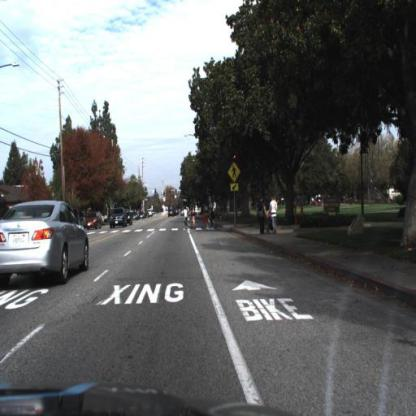car: (2, 199, 93, 292), (108, 204, 129, 230), (82, 210, 104, 233), (82, 211, 103, 232), (110, 208, 128, 231)
pedestrian: (270, 194, 279, 239), (268, 195, 278, 234), (259, 197, 267, 239), (183, 205, 191, 229), (210, 209, 218, 231), (204, 210, 208, 230), (193, 215, 198, 231), (191, 209, 195, 229)
